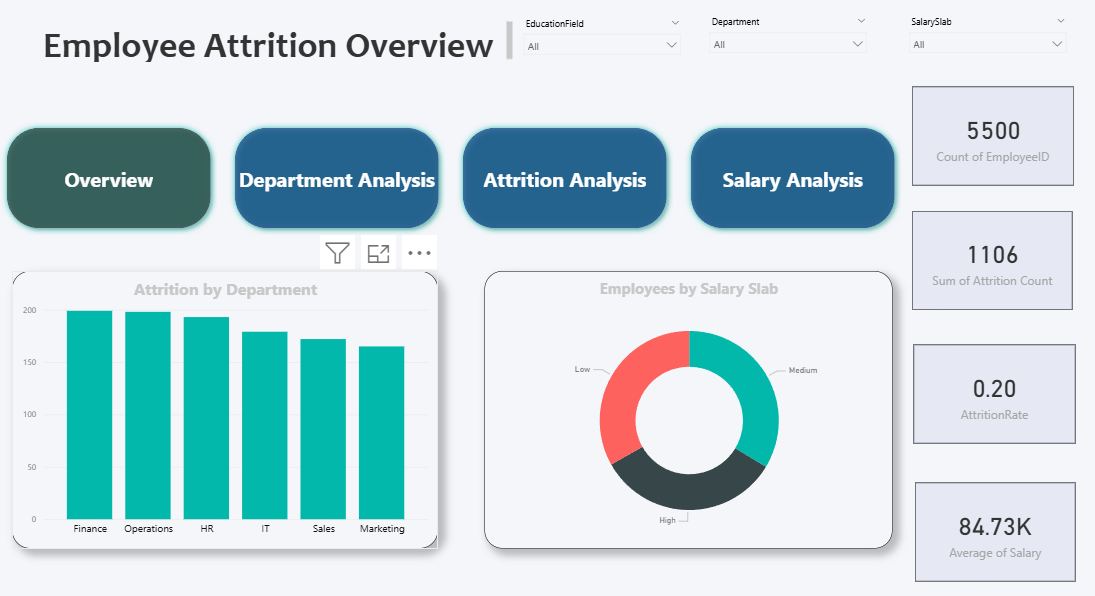

The dashboard page shown, as its layout file describes it:
{"tool":"powerbi","page":{"name":"Overview","canvas":[1476,804],"ordinal":0},"visuals":[{"type":"pageNavigator","box":[0,164,1202,152],"z":0},{"type":"card","fields":{"Values":["CountNonNull(PowerBI_Employee_5000_Data.EmployeeID)"]},"box":[1216,118,216,132],"z":1000},{"type":"card","fields":{"Values":["Sum(PowerBI_Employee_5000_Data.Attrition Count)"]},"box":[1216,284,214,132],"z":2000},{"type":"card","fields":{"Values":["PowerBI_Employee_5000_Data.AttritionRate"]},"box":[1218,462,216,132],"z":3000},{"type":"card","fields":{"Values":["Avg(PowerBI_Employee_5000_Data.Salary)"]},"box":[1220,646,214,132],"z":4000},{"type":"textbox","box":[34,26,654,64],"z":5000},{"type":"columnChart","title":"Attrition by Department","fields":{"Y":["Sum(PowerBI_Employee_5000_Data.Attrition Count)"],"Category":["PowerBI_Employee_5000_Data.Department"]},"box":[16,364,568,370],"z":6000},{"type":"donutChart","title":"Employees by Salary Slab","fields":{"Category":["PowerBI_Employee_5000_Data.SalarySlab"],"Y":["CountNonNull(PowerBI_Employee_5000_Data.EmployeeID)"]},"box":[646,364,544,370],"z":7000},{"type":"slicer","fields":{"Values":["PowerBI_Employee_5000_Data.EducationField"]},"box":[688,20,230,82],"z":8000},{"type":"slicer","fields":{"Values":["PowerBI_Employee_5000_Data.Department"]},"box":[936,18,230,84],"z":9000},{"type":"slicer","fields":{"Values":["PowerBI_Employee_5000_Data.SalarySlab"]},"box":[1202,18,230,80],"z":10000}]}

Visuals, with their boxes in screenshot pixels (x1, y1, x2, y2), scaled from the page's 1476x804 canvas onto the 1095x596 screenshot:
pageNavigator: [0,122,892,234]
card - CountNonNull(PowerBI_Employee_5000_Data.EmployeeID): [902,87,1062,185]
card - Sum(PowerBI_Employee_5000_Data.Attrition Count): [902,211,1061,308]
card - PowerBI_Employee_5000_Data.AttritionRate: [904,342,1064,440]
card - Avg(PowerBI_Employee_5000_Data.Salary): [905,479,1064,577]
textbox: [25,19,510,67]
"Attrition by Department" columnChart: [12,270,433,544]
"Employees by Salary Slab" donutChart: [479,270,883,544]
slicer - PowerBI_Employee_5000_Data.EducationField: [510,15,681,76]
slicer - PowerBI_Employee_5000_Data.Department: [694,13,865,76]
slicer - PowerBI_Employee_5000_Data.SalarySlab: [892,13,1062,73]
